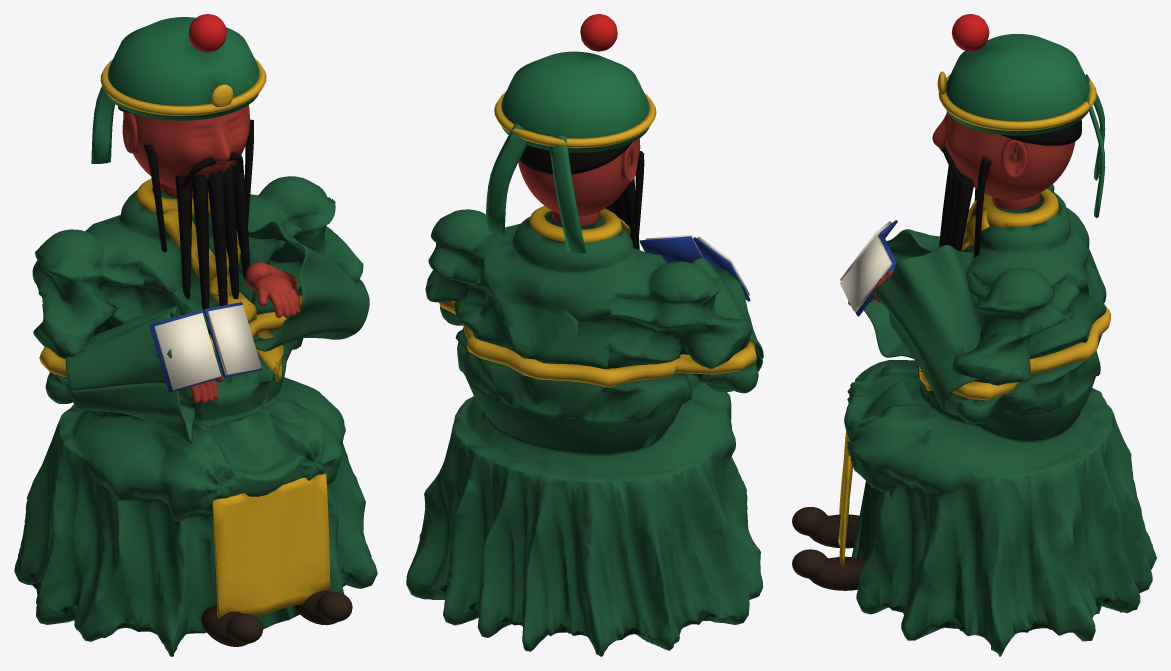
File: guandi.glb
3 renders of one model, left to right at view 1: azimuth 30°, elevation 25°; view 2: azimuth 150°, elevation 25°; view 3: azimuth 270°, elevation 25°, orthographic. The views are drawn at different scales.
Visible parts, largest first — view 1: GD_Robe, GD_Apron, GD_CapMesh, GD_SleeveL, GD_Beard, GD_SleeveR, GD_Pages, GD_HeadMesh, GD_Boots, GD_CapBand, GD_Lapel, GD_HandR (+7 smaller); view 2: GD_Robe, GD_CapMesh, GD_Belt, GD_HeadMesh, GD_SleeveL, GD_CapBand, GD_BookCover, GD_HairCap, GD_Collar, GD_Beard, GD_Pompom; view 3: GD_Robe, GD_CapMesh, GD_SleeveR, GD_HeadMesh, GD_Boots, GD_Beard, GD_SleeveL, GD_Belt, GD_Pages, GD_CapBand, GD_Collar, GD_Pompom (+4 smaller).
Boxes of the visible parts, x1=… form: GD_Robe: x1=14, y1=176, x2=377, y2=656; GD_Apron: x1=212, y1=473, x2=330, y2=618; GD_CapMesh: x1=91, y1=17, x2=258, y2=163; GD_SleeveL: x1=65, y1=306, x2=195, y2=443; GD_Beard: x1=144, y1=119, x2=253, y2=310; GD_SleeveR: x1=248, y1=221, x2=369, y2=351; GD_Pages: x1=154, y1=305, x2=261, y2=389; GD_HeadMesh: x1=123, y1=105, x2=249, y2=188; GD_Boots: x1=201, y1=590, x2=352, y2=646; GD_CapBand: x1=100, y1=58, x2=266, y2=115; GD_Lapel: x1=163, y1=209, x2=283, y2=381; GD_HandR: x1=254, y1=274, x2=300, y2=318; GD_Robe: x1=406, y1=209, x2=763, y2=656; GD_CapMesh: x1=485, y1=51, x2=648, y2=253; GD_Belt: x1=439, y1=301, x2=756, y2=387; GD_HeadMesh: x1=518, y1=138, x2=640, y2=216; GD_SleeveL: x1=691, y1=258, x2=763, y2=392; GD_CapBand: x1=494, y1=92, x2=656, y2=148; GD_BookCover: x1=640, y1=236, x2=750, y2=301; GD_HairCap: x1=519, y1=143, x2=631, y2=174; GD_Collar: x1=529, y1=205, x2=622, y2=242; GD_Beard: x1=605, y1=151, x2=644, y2=249; GD_Pompom: x1=580, y1=14, x2=617, y2=51; GD_Robe: x1=844, y1=184, x2=1156, y2=656; GD_CapMesh: x1=946, y1=34, x2=1105, y2=217; GD_SleeveR: x1=875, y1=244, x2=980, y2=415; GD_HeadMesh: x1=932, y1=112, x2=1075, y2=200; GD_Boots: x1=792, y1=507, x2=865, y2=590; GD_Beard: x1=939, y1=147, x2=991, y2=256; GD_SleeveL: x1=864, y1=229, x2=939, y2=358; GD_Belt: x1=952, y1=307, x2=1110, y2=400; GD_Pages: x1=840, y1=221, x2=892, y2=312; GD_CapBand: x1=937, y1=71, x2=1096, y2=131; GD_Collar: x1=975, y1=189, x2=1059, y2=227; GD_Pompom: x1=951, y1=14, x2=989, y2=51.
Size of the model in its own units: 1.18 by 2 by 1.16.
